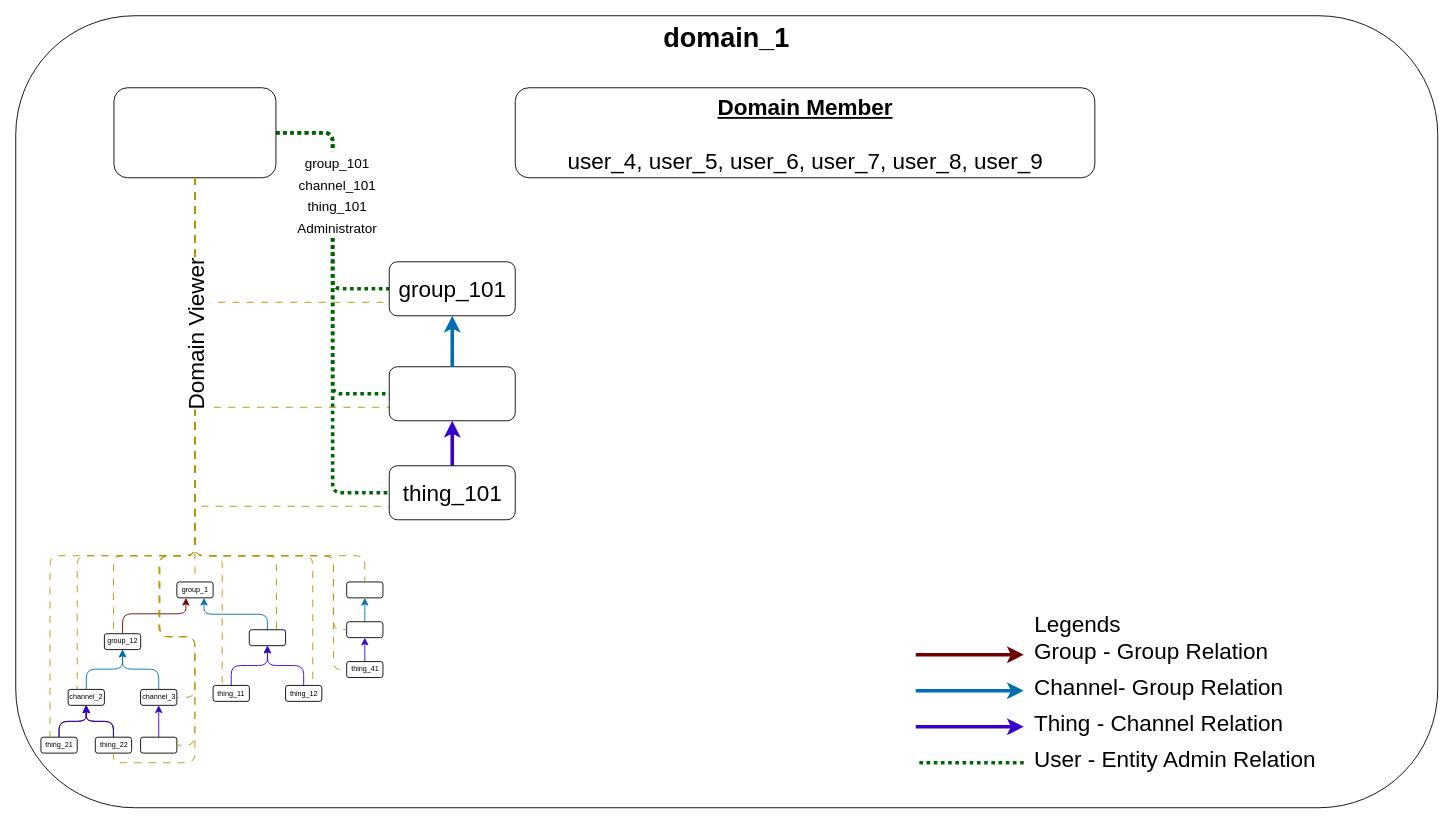
Image size: 1454x824. Some labels were removed from this diagram. The centre of each missing label's shape, as x and y in pixels:
"channel_1" goes at (267,637).
"channel_101" goes at (451,393).
"channel_4" goes at (364,629).
"Domain Viewer user_3" goes at (194,132).
"group_2" goes at (364,589).
"thing_31" goes at (158,744).
